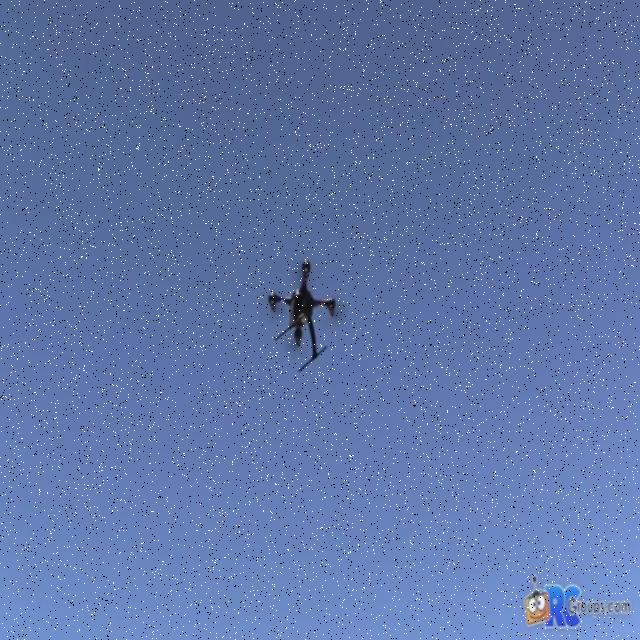UAV: (268, 260, 342, 372)
